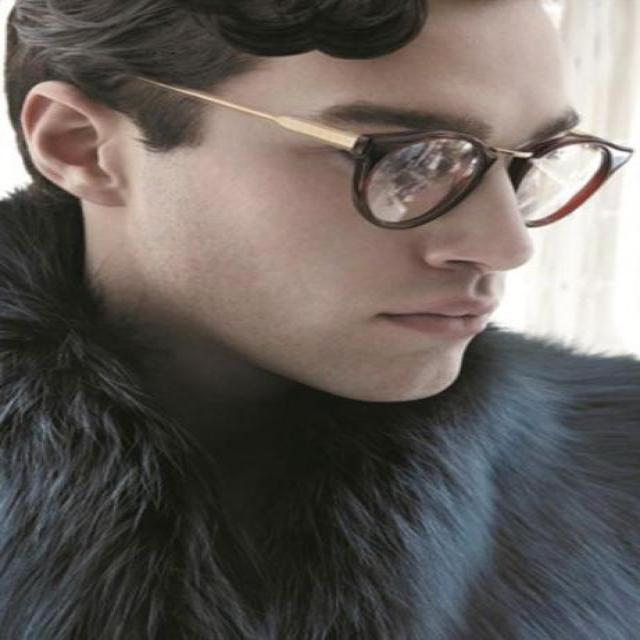glasses: (135, 75, 634, 229)
